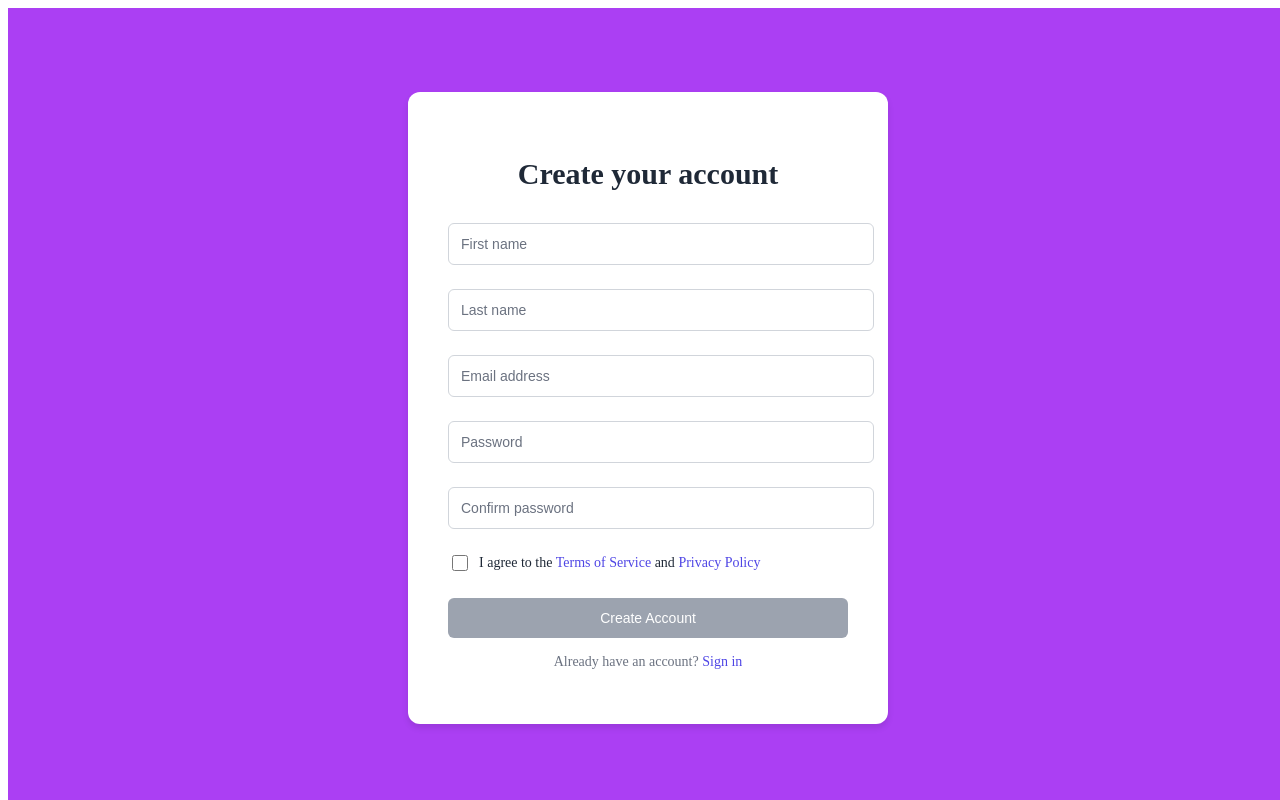
Test: Testing -> SignupView › should enable submit button when all form fields are valid
# Fill all required fields correctly
Type "John" into the field named "firstName".
click(661, 244); type("John")  # box [448,223,874,265]
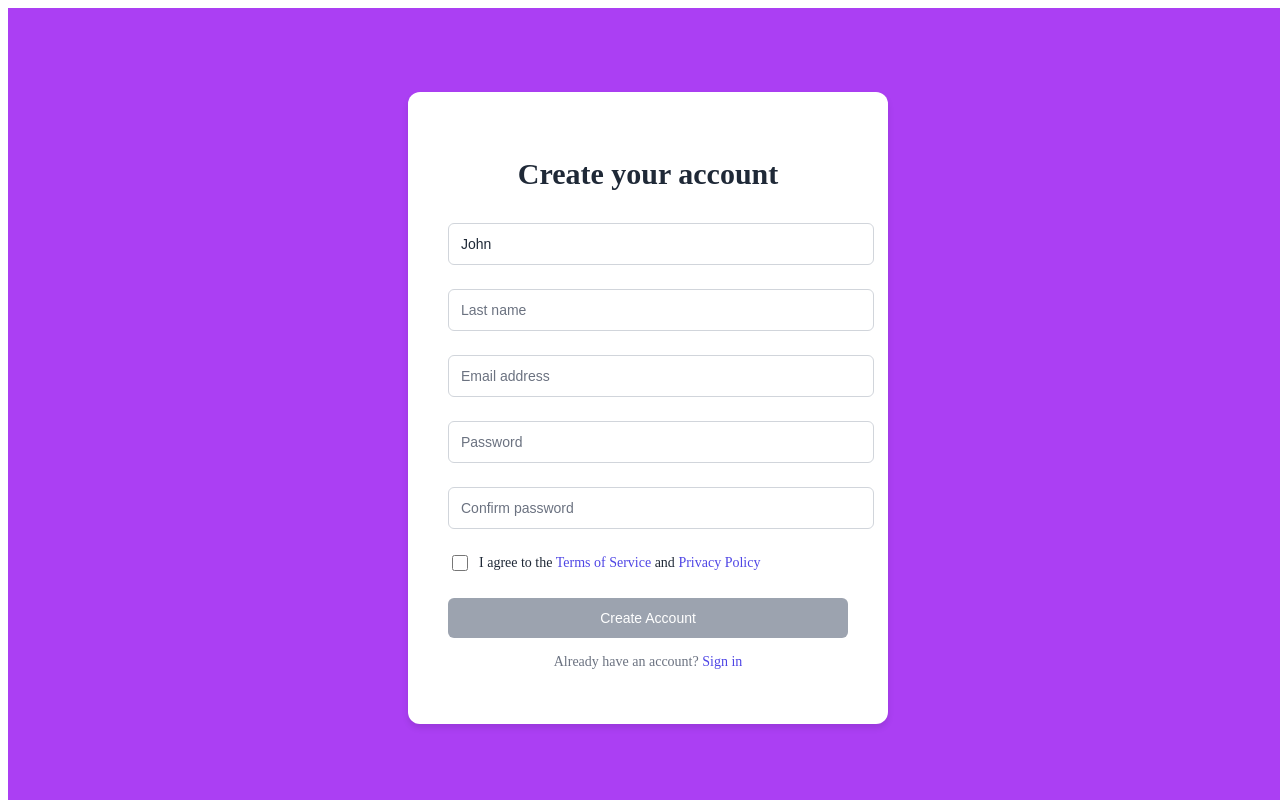
Type "Doe" into the field named "lastName".
click(661, 310); type("Doe")  # box [448,289,874,331]
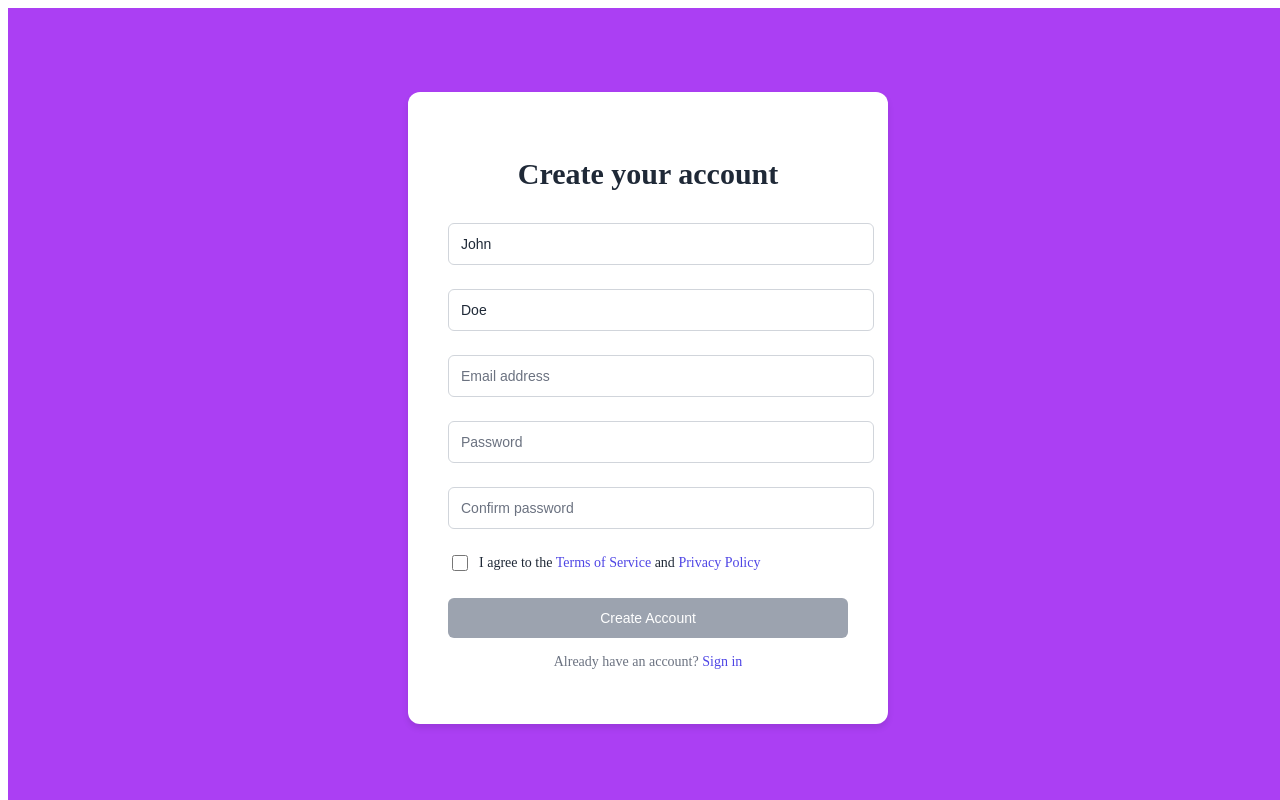
Type "john.doe@example.com" into the field with placeholder "Email address".
click(661, 376); type("john.doe@example.com")  # box [448,355,874,397]
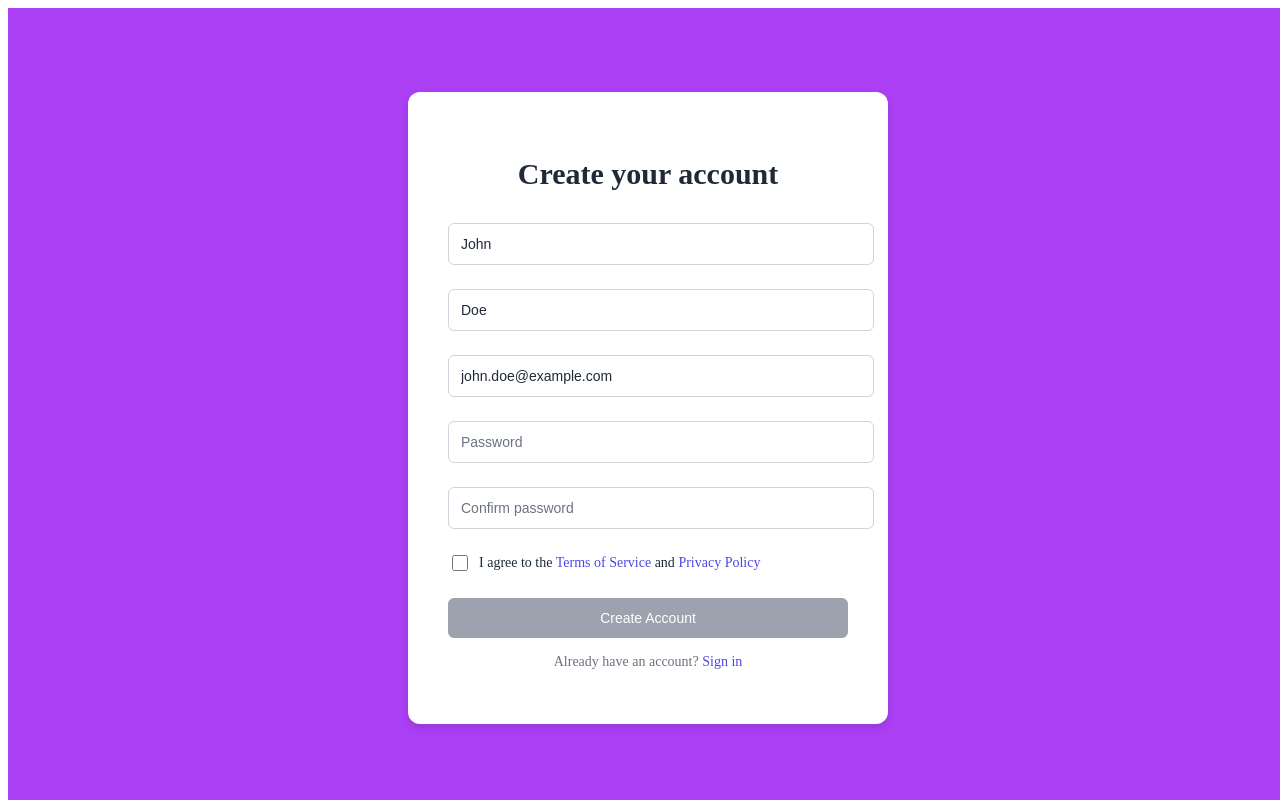
Type "password123" into the password field named "password".
click(661, 442); type("password123")  # box [448,421,874,463]
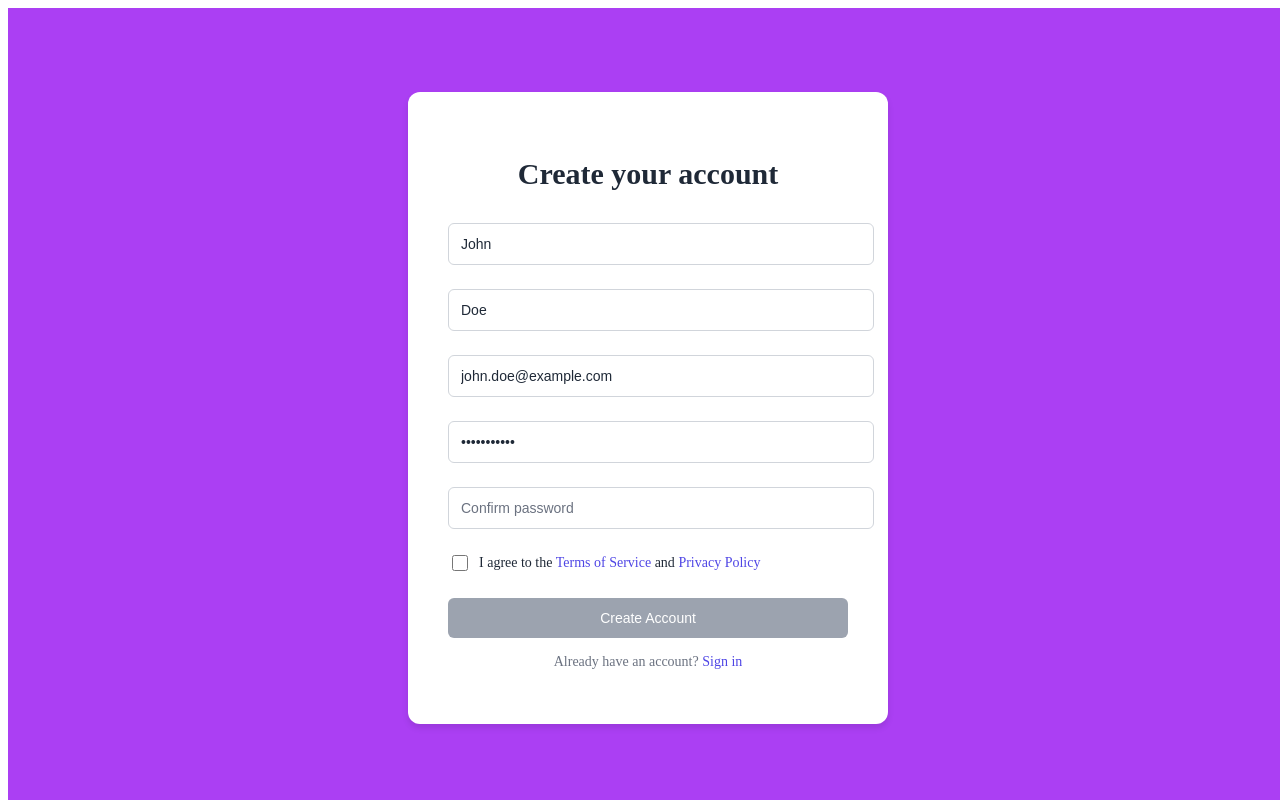
Type "password123" into the password field named "confirmPassword".
click(661, 508); type("password123")  # box [448,487,874,529]
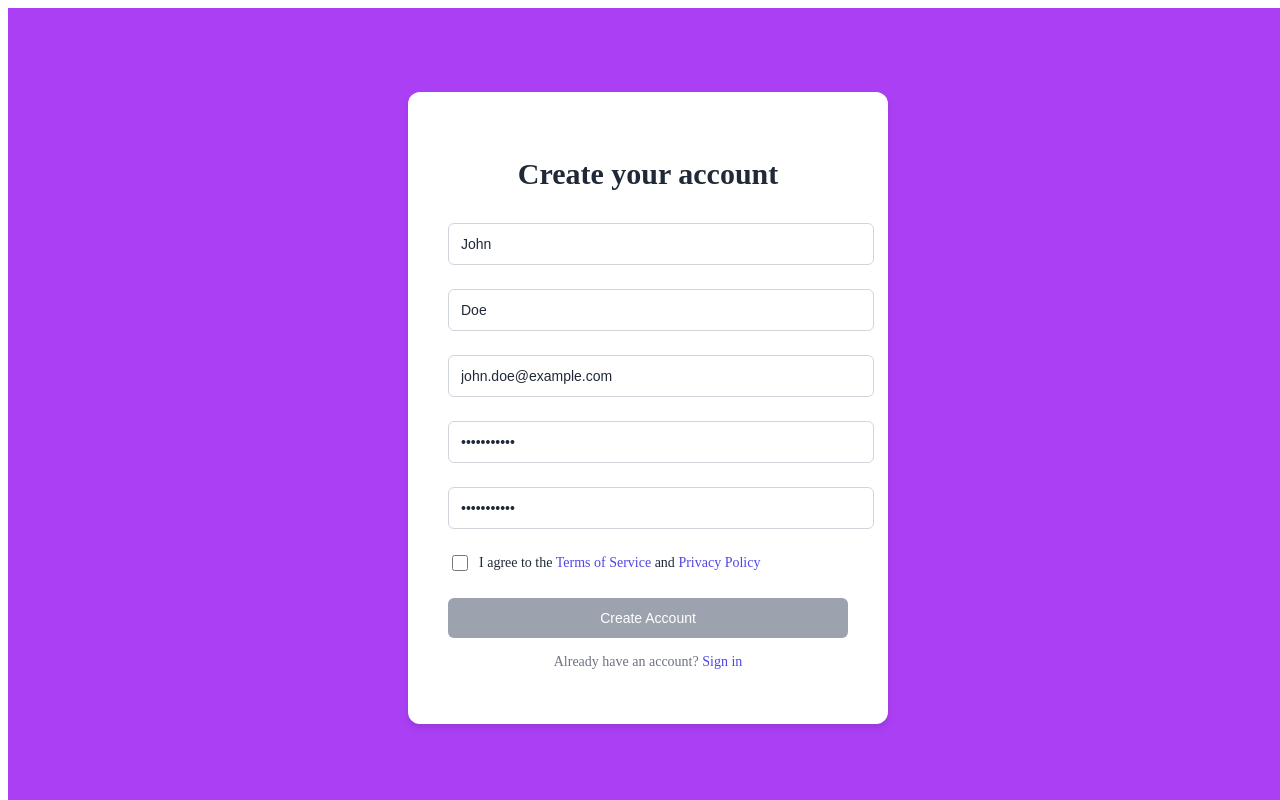
Click the checkbox labelled "I agree to the Terms of Service and Privacy Policy".
click(460, 563)  # box [452,555,468,571]
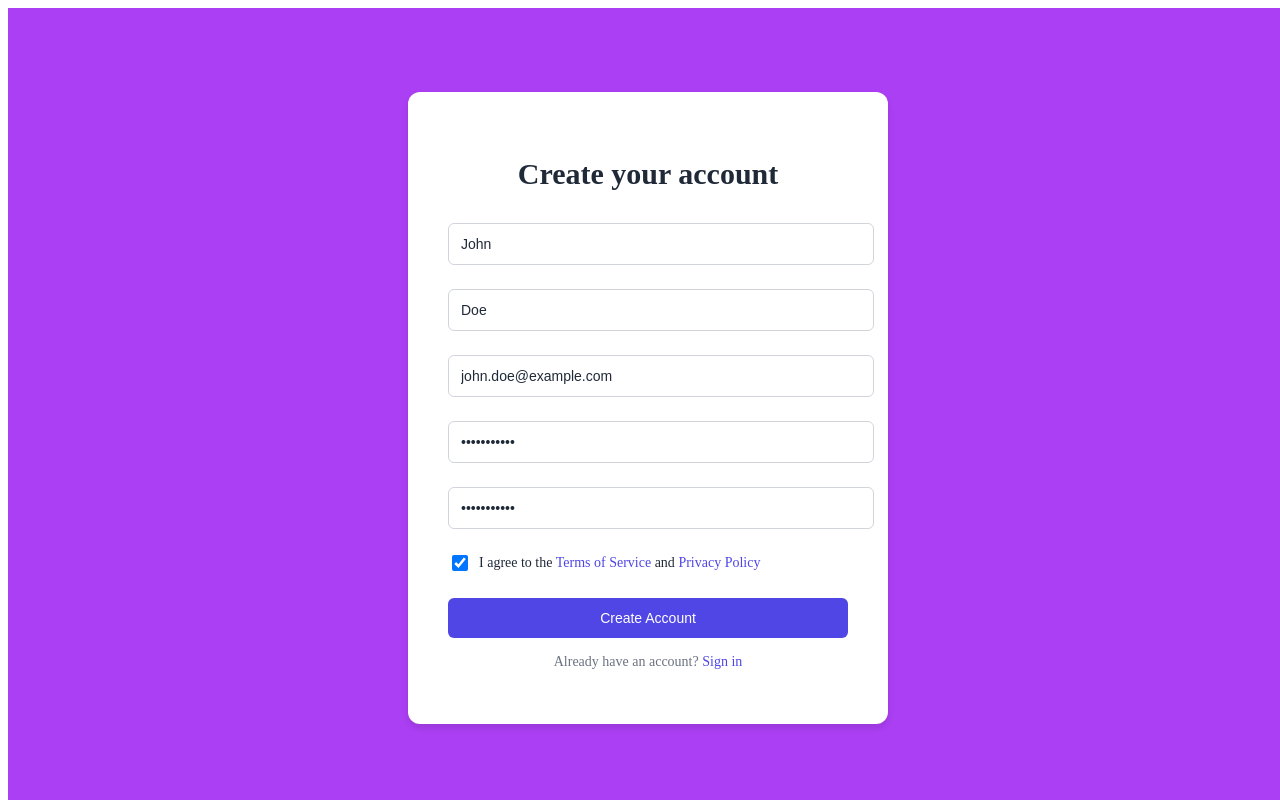
Now the submit button is enabled, box [448,598,848,638]
